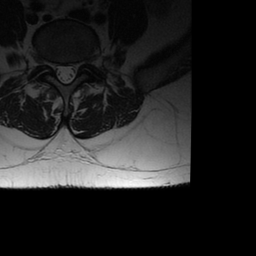CCS_normal: (61, 60, 69, 88)
LFS_severe_stenosis: (77, 53, 84, 72)
LLS_normal: (68, 60, 76, 85)
RFS_stenosis: (46, 54, 55, 75)
RLS_normal: (55, 59, 62, 84)
